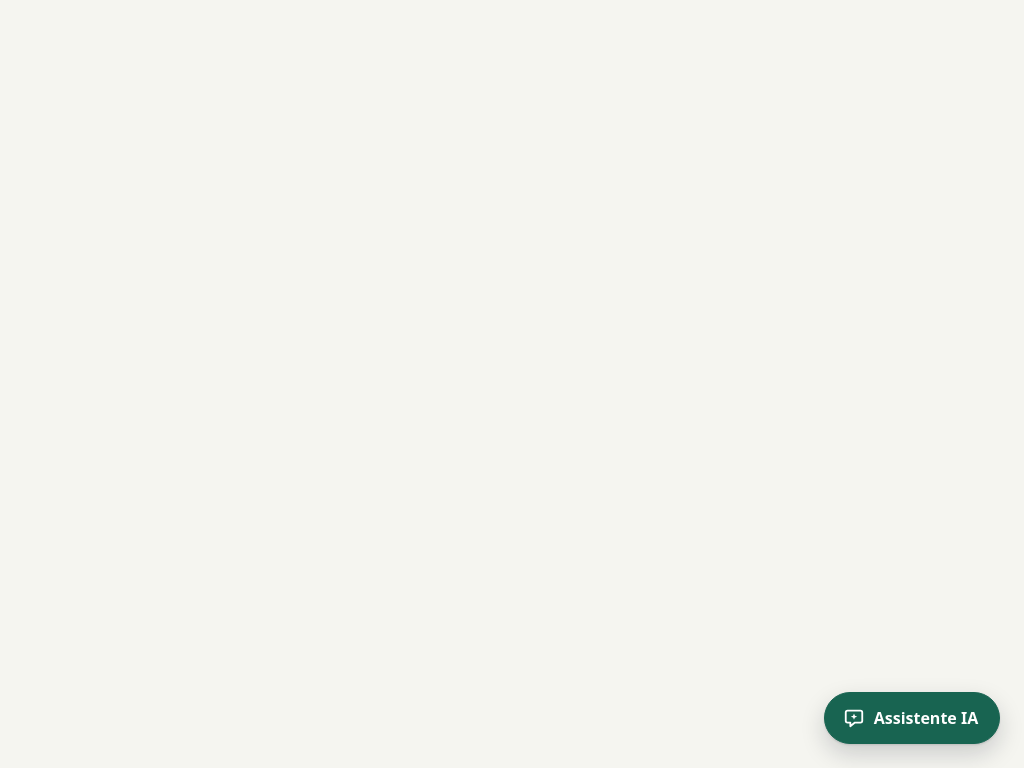
ChatPopup › starts closed, opens with the focus on the message box and × closes back to the button
The width and height of the screenshot is (1024, 768).
Click the button "Assistente IA". click: (912, 718)
box: [824,692,1000,744]
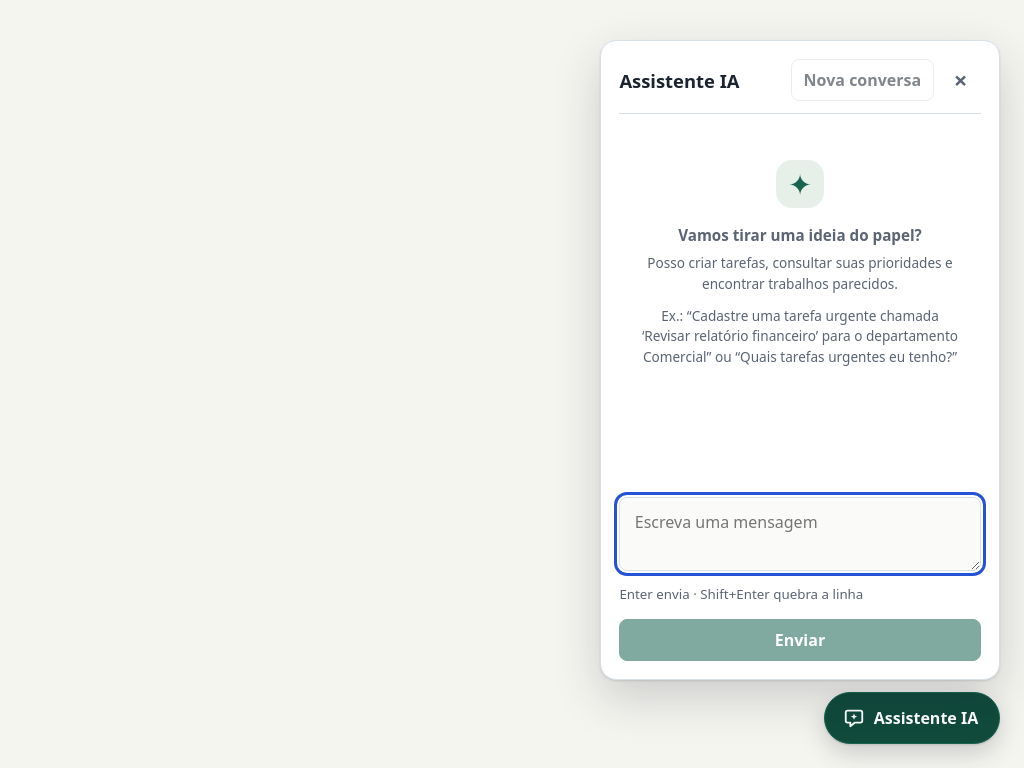
Expected: the button "Assistente IA" is expanded, [824,692,1000,744]
Expected: the dialog "Assistente IA" is shown, [600,40,1000,680]
Click the button named "Fechar assistente". click: (961, 80)
box: [941,60,981,100]
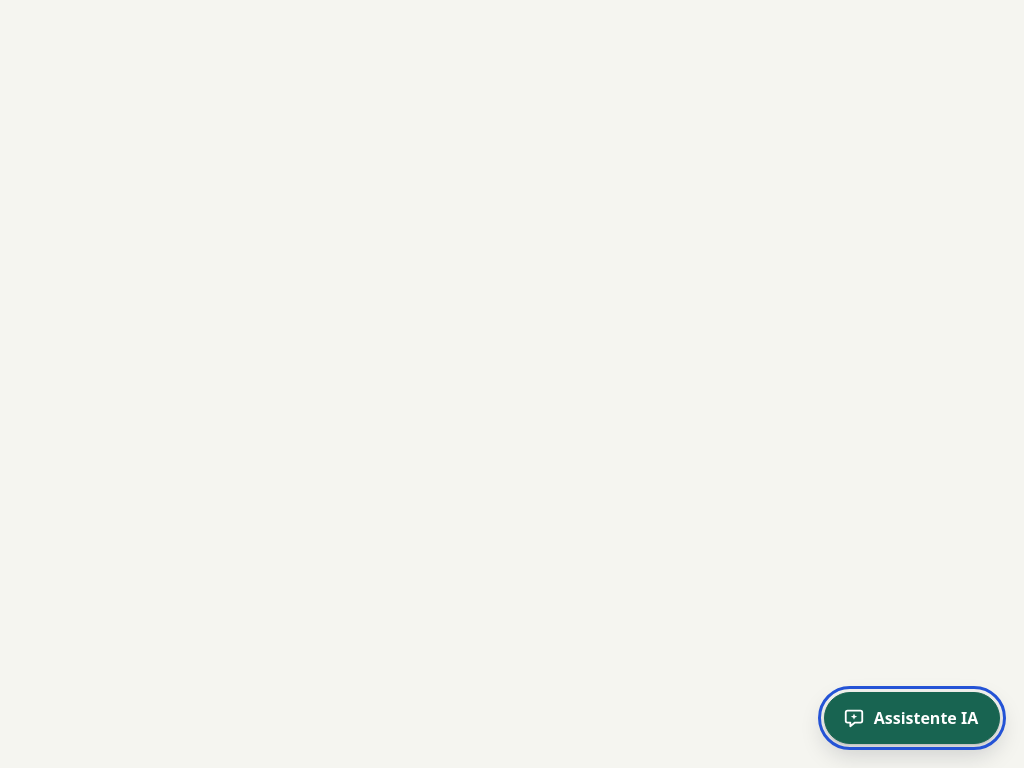
Expected: the button "Assistente IA" is collapsed, [824,692,1000,744]
